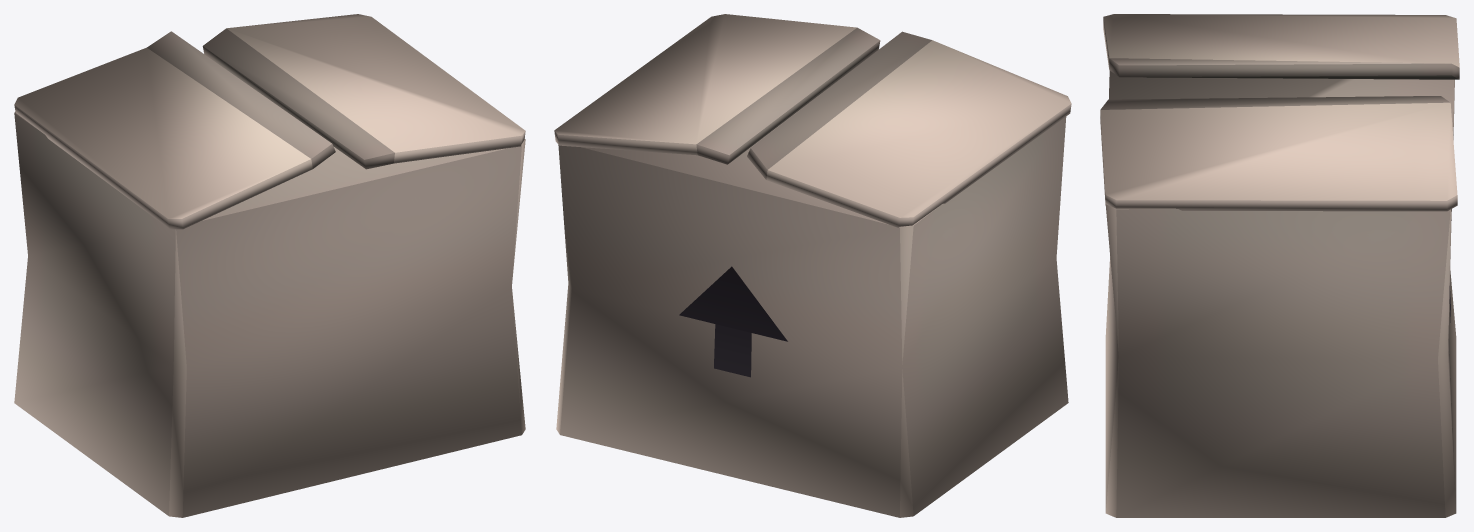
The model's file is Paper_Pack_1A.fbx.
3 renders of one model, left to right at view 1: azimuth 30°, elevation 25°; view 2: azimuth 150°, elevation 25°; view 3: azimuth 270°, elevation 25°, orthographic. The views are drawn at different scales.
Parts seen in each view (by area): view 1: Paper_Pack_1A; view 2: Paper_Pack_1A; view 3: Paper_Pack_1A.
Part boxes in pixels (left/top/right/bottom): Paper_Pack_1A: left=14, top=14, right=525, bottom=517; Paper_Pack_1A: left=554, top=14, right=1071, bottom=517; Paper_Pack_1A: left=1100, top=14, right=1459, bottom=517.
Size of the model in its own units: 126 by 111 by 103.
